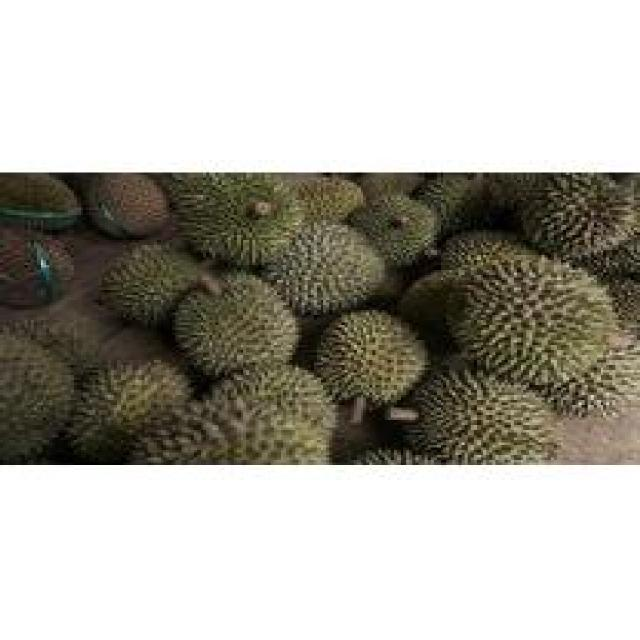fruit: (412, 217, 634, 445), (304, 302, 434, 418), (86, 225, 206, 343), (0, 305, 83, 463)
